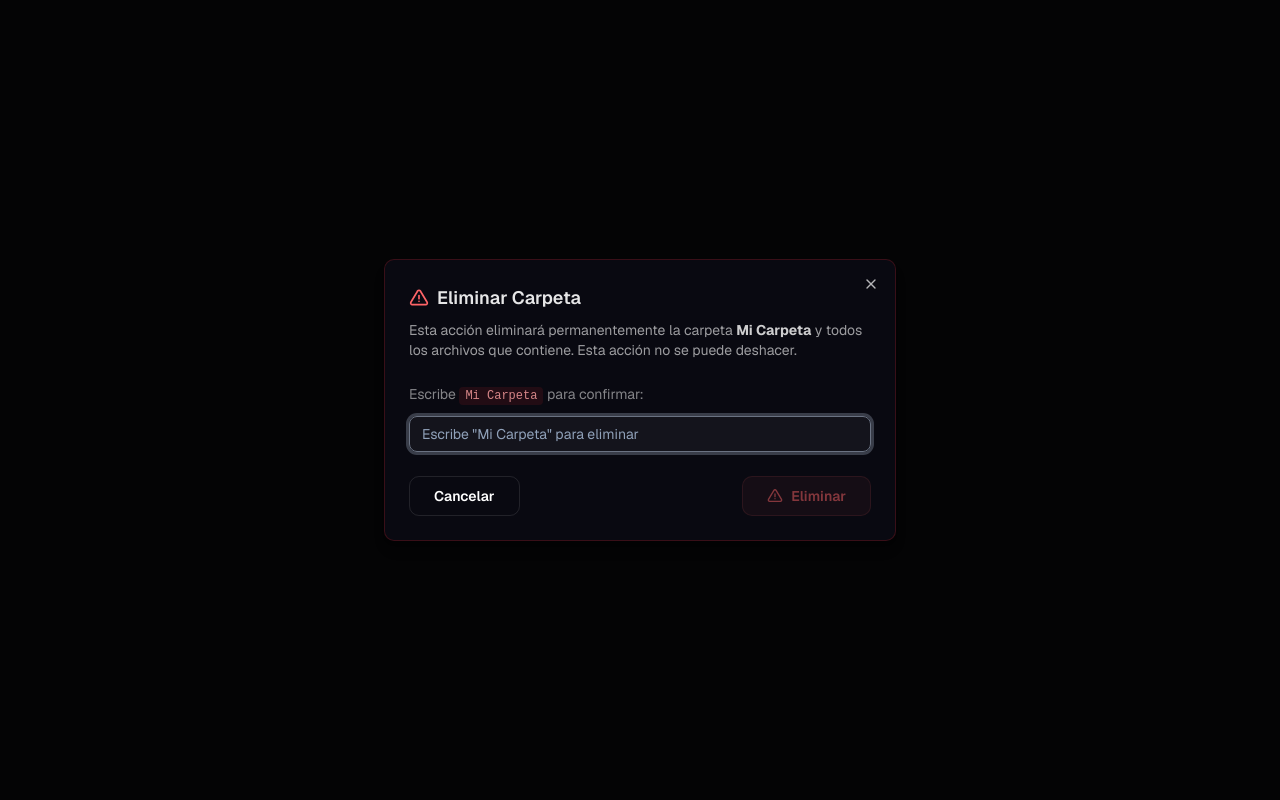
Test: DeleteConfirmDialog › enables confirm button when name matches exactly
Type "Mi Carpeta" into the field with placeholder "Escribe \"Mi Carpeta\" para eliminar". click: [640, 434]
box: [409,416,871,452]
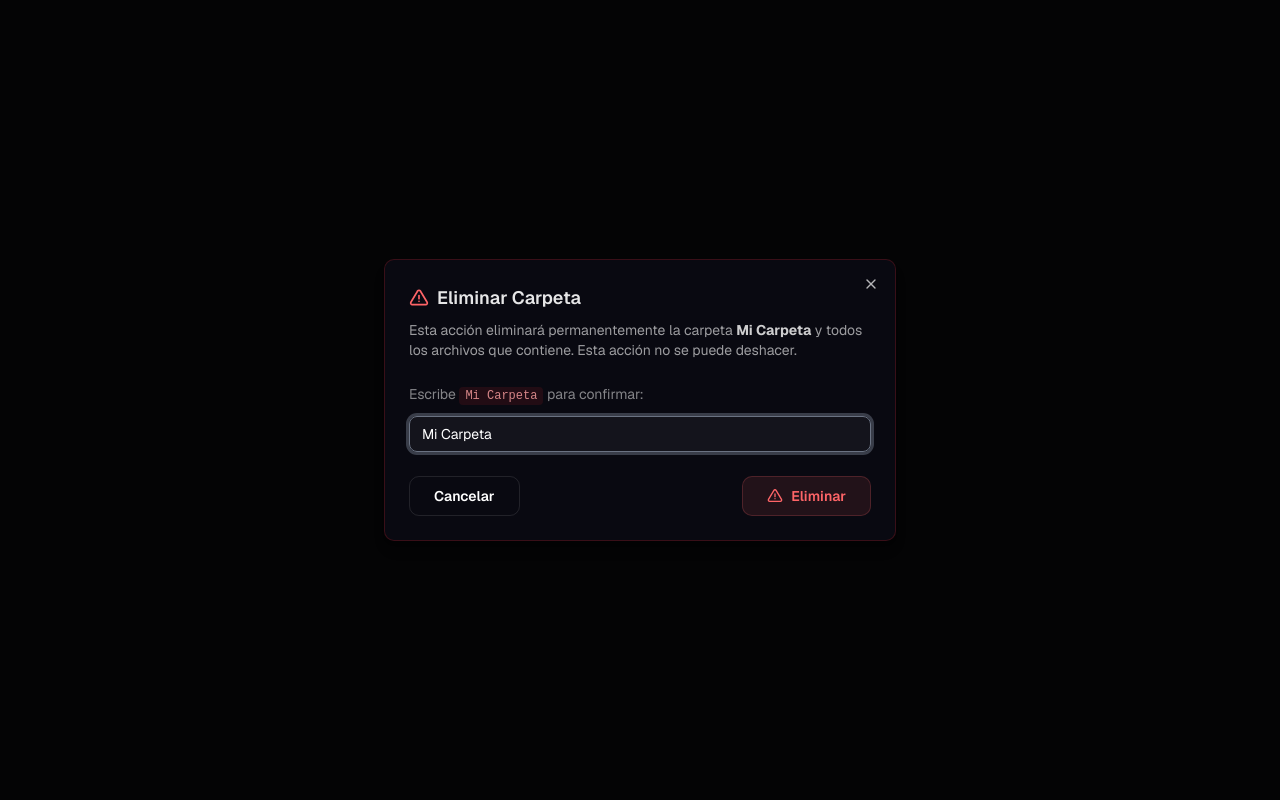
Now the button "Eliminar" is enabled, box [742,476,871,516]
